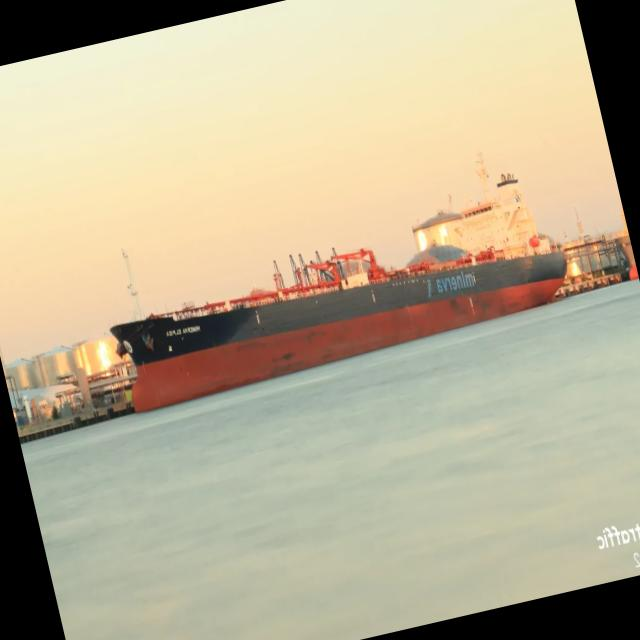Tanker: (110, 173, 566, 411), (477, 152, 491, 198)
